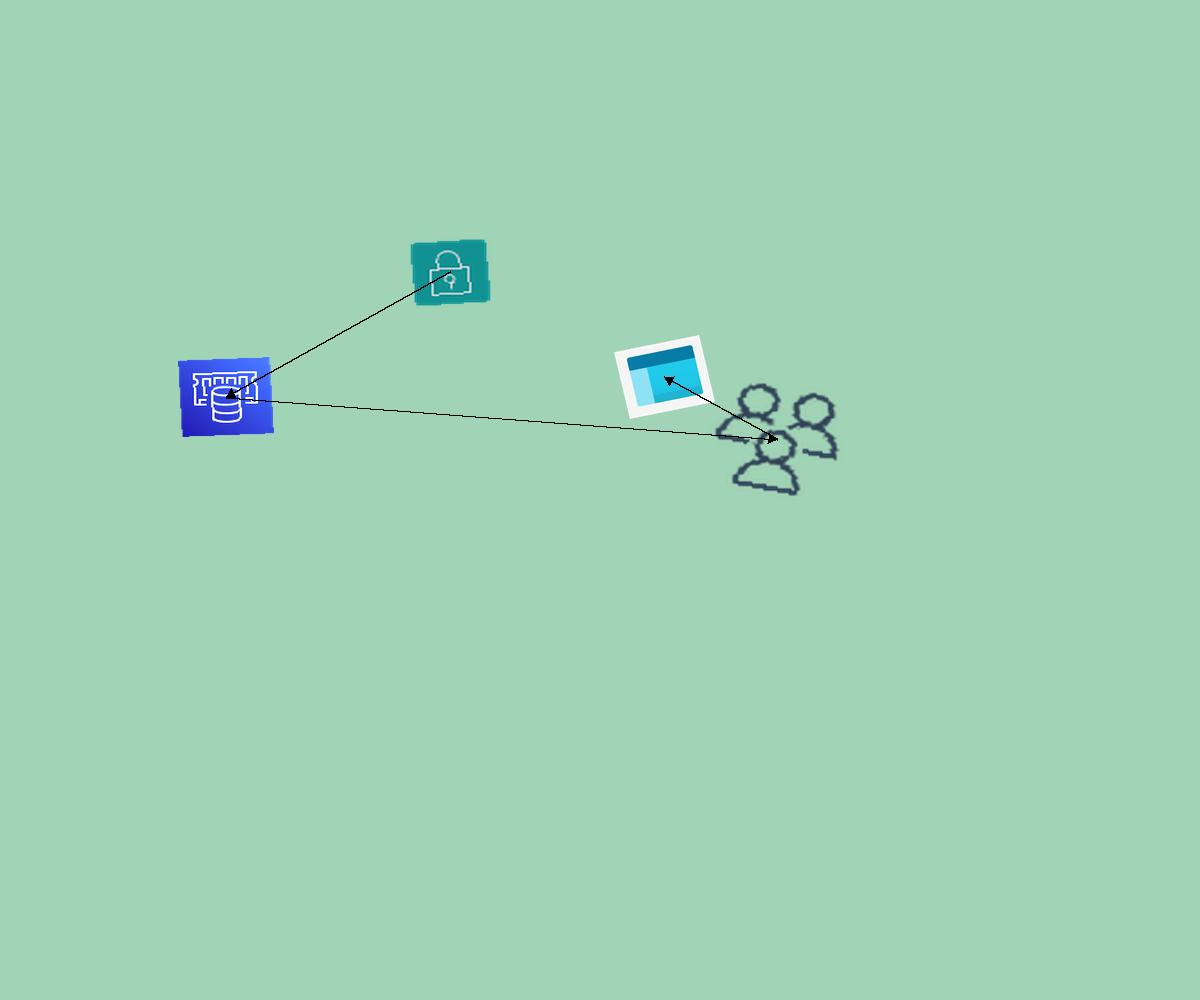AWS-ElastiCache: (178, 357, 274, 437)
AWS-Private-subnet: (409, 238, 492, 307)
AWS-Res_Users: (696, 372, 859, 507)
Azure_management-portal: (614, 335, 715, 419)
